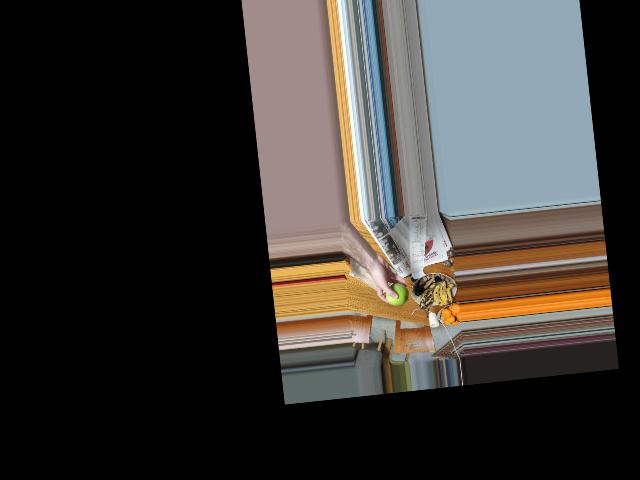apple: (387, 279, 409, 308)
